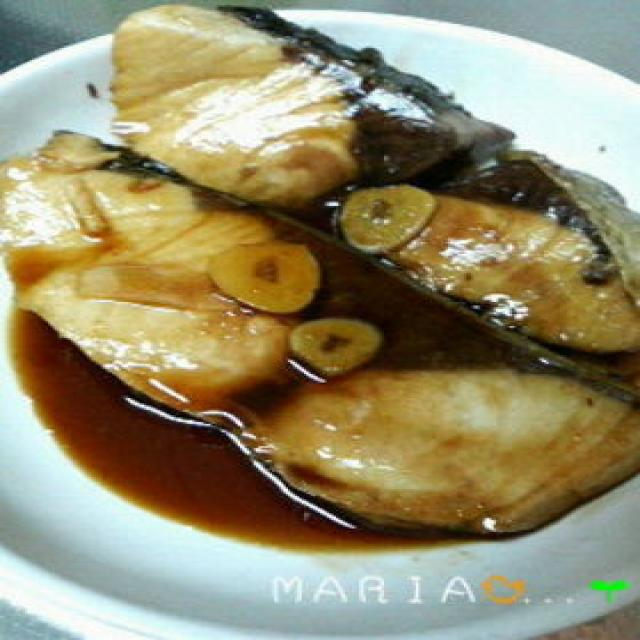熟制海鲜: (0, 0, 640, 551)
